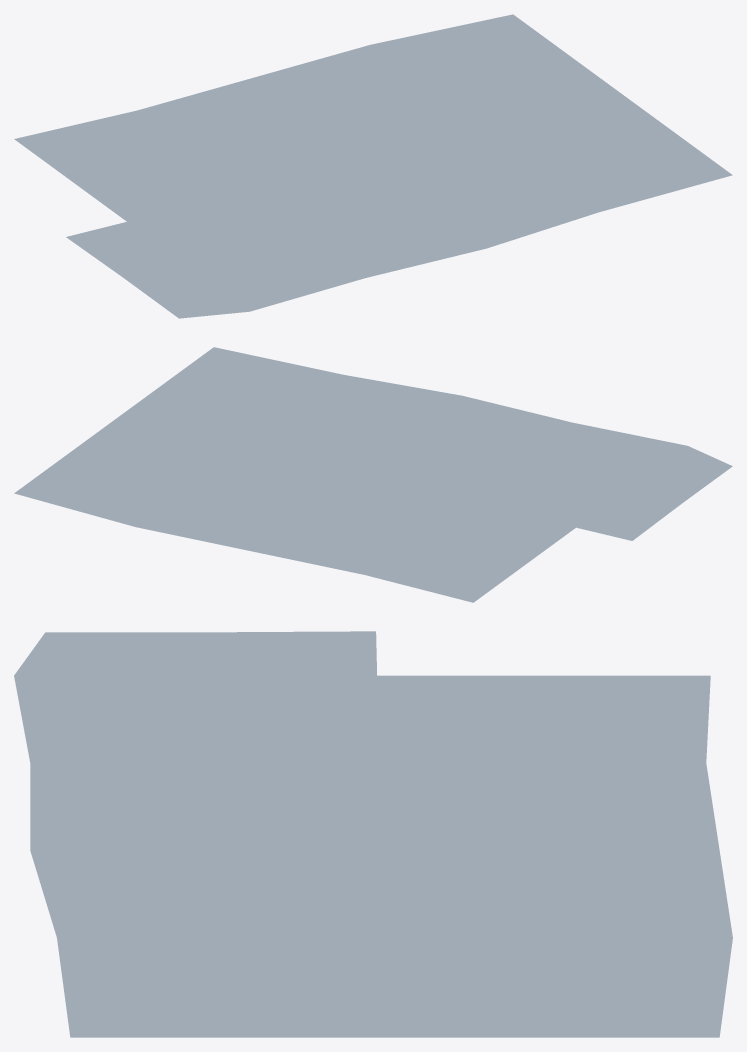
File: water_ground.fbx
3 views of the same model, one above another, from view 1: azimuth 30°, elevation 25°; view 2: azimuth 150°, elevation 25°; view 3: azimuth 270°, elevation 25° (orthographic). The views are drawn at different scales.
Visible parts, largest first — view 1: Low Ground Water.002; view 2: Low Ground Water.002; view 3: Low Ground Water.002.
Boxes of the visible parts, left/top/right/bottom form: Low Ground Water.002: left=14, top=14, right=732, bottom=318; Low Ground Water.002: left=14, top=347, right=732, bottom=602; Low Ground Water.002: left=14, top=631, right=732, bottom=1037.
Bounding box in the file's own units: 36.03 × 0 × 26.94.
